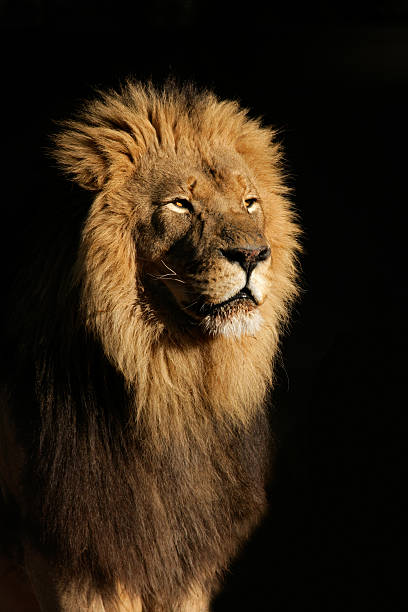lion: (31, 59, 328, 612)
